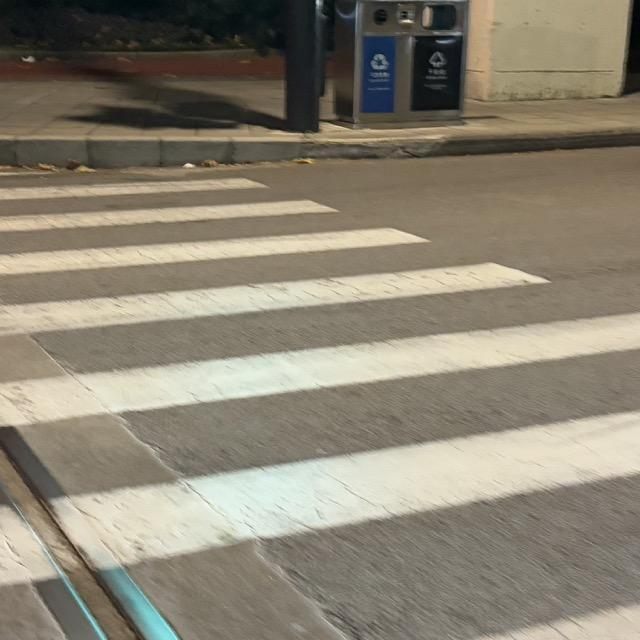curb: (0, 130, 639, 169), (0, 48, 288, 65)
